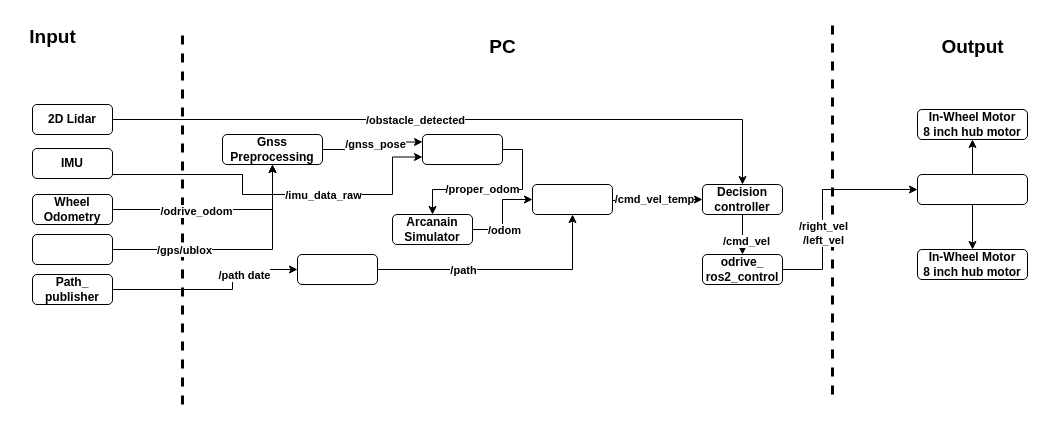
Some shapes in this 1045 by 424 pixel diagram are drawn without their labels. Here are the shapes that lost their labels. From the top down, the centre of each, then its label:
At pixel 462 149: "RTK Judge".
At pixel 572 199: "Pure pursuit".
At pixel 972 189: "Motor Driver ODrive V3.6".
At pixel 72 249: "GPS modele sinpleRTK2B".
At pixel 337 269: "Path publisher".
